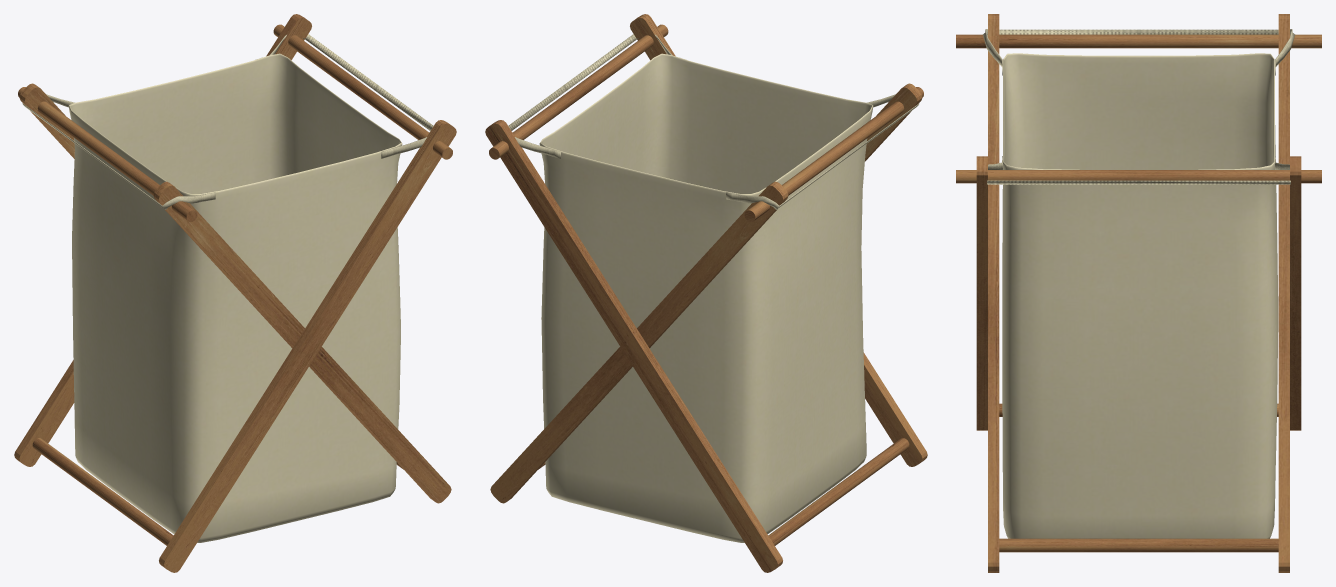
Rendered from clothes-basket.obj.
The picture shows the model from 3 angles, left to right: view 1: azimuth 30°, elevation 25°; view 2: azimuth 150°, elevation 25°; view 3: azimuth 270°, elevation 25°; orthographic projection. The views are drawn at different scales.
Parts seen in each view (by area): view 1: Cube, Cube.001, Cube.002_Cube.003; view 2: Cube, Cube.001, Cube.002_Cube.003; view 3: Cube, Cube.001, Cube.002_Cube.003.
Boxes of the visible parts, left/top/right/bottom form: Cube: left=68, top=53, right=402, bottom=542; Cube.001: left=14, top=14, right=456, bottom=572; Cube.002_Cube.003: left=22, top=34, right=433, bottom=209; Cube: left=539, top=53, right=873, bottom=542; Cube.001: left=485, top=14, right=927, bottom=572; Cube.002_Cube.003: left=508, top=34, right=919, bottom=209; Cube: left=1002, top=53, right=1278, bottom=538; Cube.001: left=956, top=14, right=1321, bottom=572; Cube.002_Cube.003: left=982, top=29, right=1295, bottom=184.
Size of the model in its own units: 53.9 by 67.37 by 53.78.
3 materials, 3 textured.
